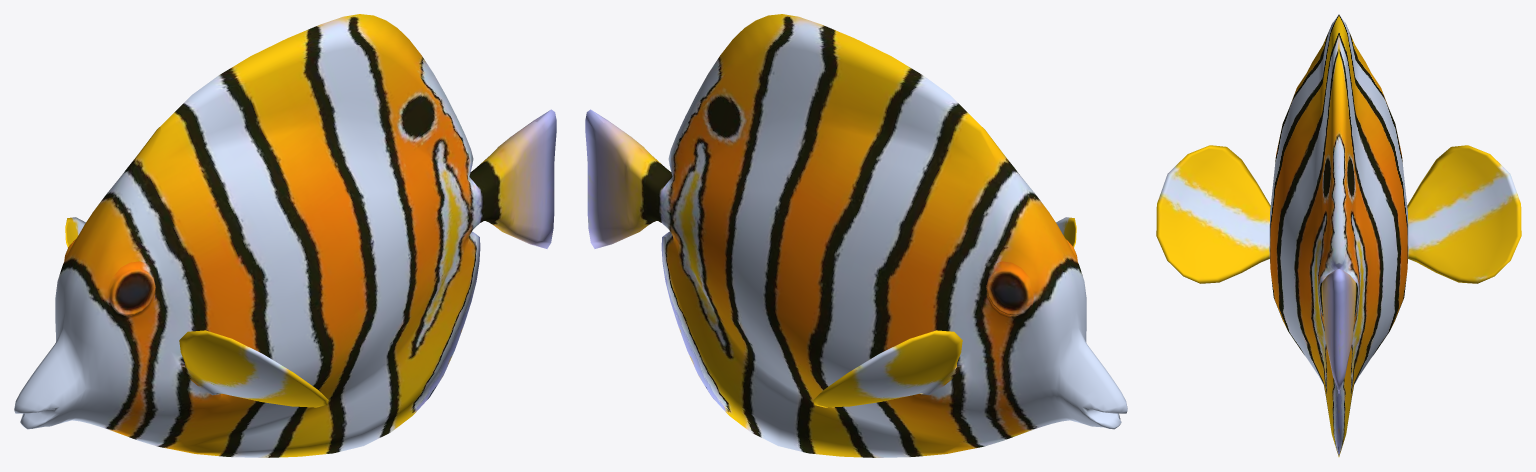
Rendered from copper.glb.
3 renders of one model, left to right at view 1: azimuth 30°, elevation 25°; view 2: azimuth 150°, elevation 25°; view 3: azimuth 270°, elevation 25°, orthographic. The views are drawn at different scales.
Parts seen in each view (by area): view 1: defaultMaterial; view 2: defaultMaterial; view 3: defaultMaterial.
Boxes of the visible parts, left/top/right/bottom form: defaultMaterial: left=14, top=14, right=556, bottom=457; defaultMaterial: left=585, top=14, right=1127, bottom=457; defaultMaterial: left=1156, top=14, right=1521, bottom=456.
Size of the model in its own units: 2 by 1.53 by 1.27.
1 material, 1 textured.
